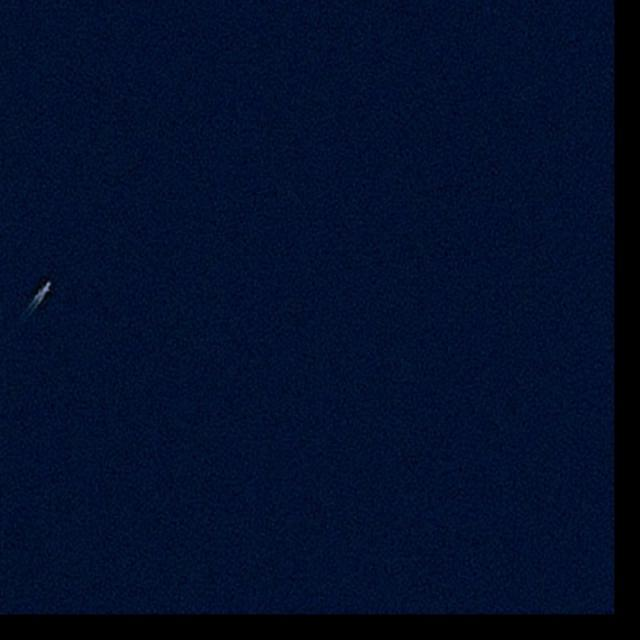ship: (42, 281, 53, 293)
